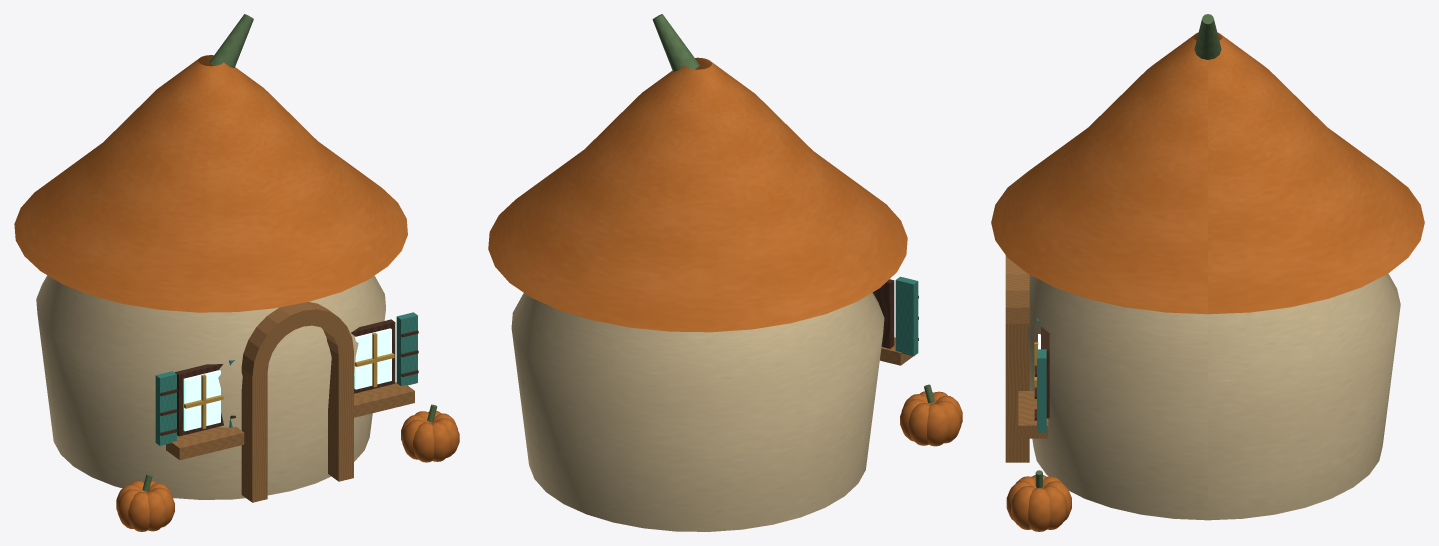
File: pumpkin_house.glb
The picture shows the model from 3 angles, left to right: view 1: azimuth 30°, elevation 25°; view 2: azimuth 150°, elevation 25°; view 3: azimuth 270°, elevation 25°; orthographic projection. The views are drawn at different scales.
Parts seen in each view (by area): view 1: pumpkin_house; view 2: pumpkin_house; view 3: pumpkin_house.
Boxes of the visible parts, box(x1,y1,x2,y2) form: pumpkin_house: box(14, 14, 459, 531); pumpkin_house: box(488, 14, 962, 531); pumpkin_house: box(991, 14, 1424, 531).
Bounding box in the file's own units: 3.6 × 4.14 × 3.6.
8 materials, 8 textured.
